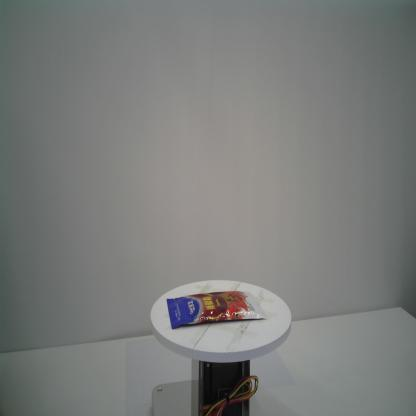Seasoner: (166, 290, 267, 329)
